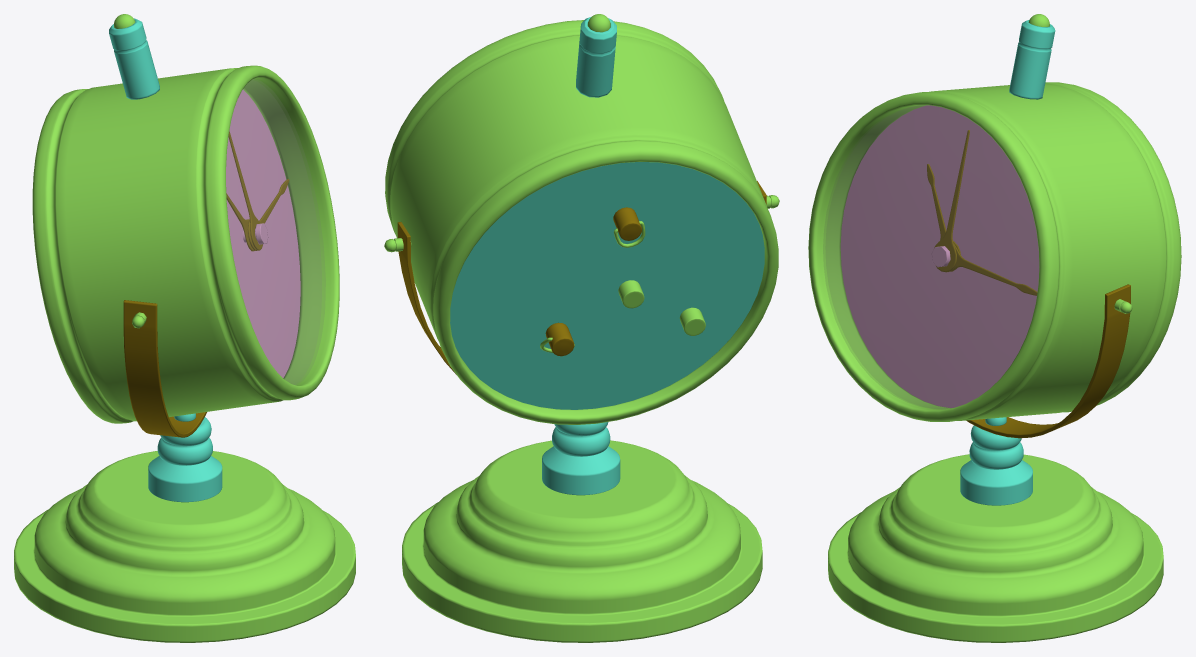
Rendered from Desk_Clock.obj.
The picture shows the model from 3 angles, left to right: view 1: azimuth 30°, elevation 25°; view 2: azimuth 150°, elevation 25°; view 3: azimuth 270°, elevation 25°; orthographic projection. The views are drawn at different scales.
Visible parts, largest first — view 1: Desk_Decor_Set_03_LCG_Body_002, Glass_Objects_001, Desk_Decor_Set_03_LCG_Details_02_002, Desk_Decor_Set_03_LCG_Details_002, Desk_Decor_Set_03_LCG_002, Desk_Decor_Set_03_Clock_Details_002; view 2: Desk_Decor_Set_03_LCG_Body_002, Desk_Decor_Set_03_LCG_Details_002, Desk_Decor_Set_03_LCG_002; view 3: Desk_Decor_Set_03_LCG_Body_002, Glass_Objects_001, Desk_Decor_Set_03_LCG_Details_02_002, Desk_Decor_Set_03_LCG_Details_002, Desk_Decor_Set_03_LCG_002, Desk_Decor_Set_03_Clock_Details_002.
Part boxes in pixels (left/top/right/bottom): Desk_Decor_Set_03_LCG_Body_002: left=14, top=14, right=355, bottom=642; Glass_Objects_001: left=226, top=79, right=325, bottom=384; Desk_Decor_Set_03_LCG_Details_02_002: left=226, top=89, right=300, bottom=377; Desk_Decor_Set_03_LCG_Details_002: left=109, top=18, right=222, bottom=502; Desk_Decor_Set_03_LCG_002: left=123, top=131, right=262, bottom=437; Desk_Decor_Set_03_Clock_Details_002: left=226, top=179, right=289, bottom=251; Desk_Decor_Set_03_LCG_Body_002: left=384, top=14, right=779, bottom=642; Desk_Decor_Set_03_LCG_Details_002: left=450, top=17, right=764, bottom=495; Desk_Decor_Set_03_LCG_002: left=397, top=181, right=766, bottom=374; Desk_Decor_Set_03_LCG_Body_002: left=808, top=14, right=1181, bottom=642; Glass_Objects_001: left=823, top=105, right=1038, bottom=408; Desk_Decor_Set_03_LCG_Details_02_002: left=840, top=105, right=1039, bottom=408; Desk_Decor_Set_03_LCG_Details_002: left=960, top=20, right=1055, bottom=505; Desk_Decor_Set_03_LCG_002: left=934, top=130, right=1130, bottom=438; Desk_Decor_Set_03_Clock_Details_002: left=927, top=164, right=1037, bottom=295.
Size of the model in its own units: 10.98 by 17.52 by 11.
